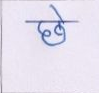e_matra: (49, 5, 66, 20)
